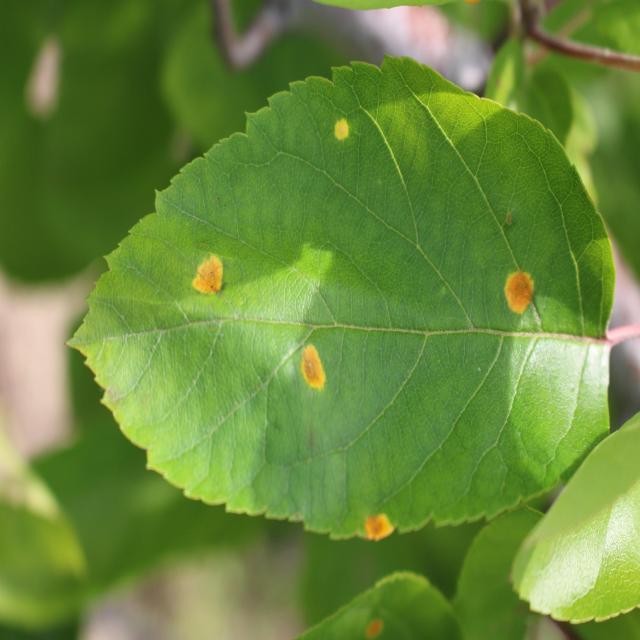Rust: (176, 238, 248, 310), (492, 246, 546, 342), (352, 491, 402, 568), (293, 321, 333, 415), (318, 106, 366, 172)
